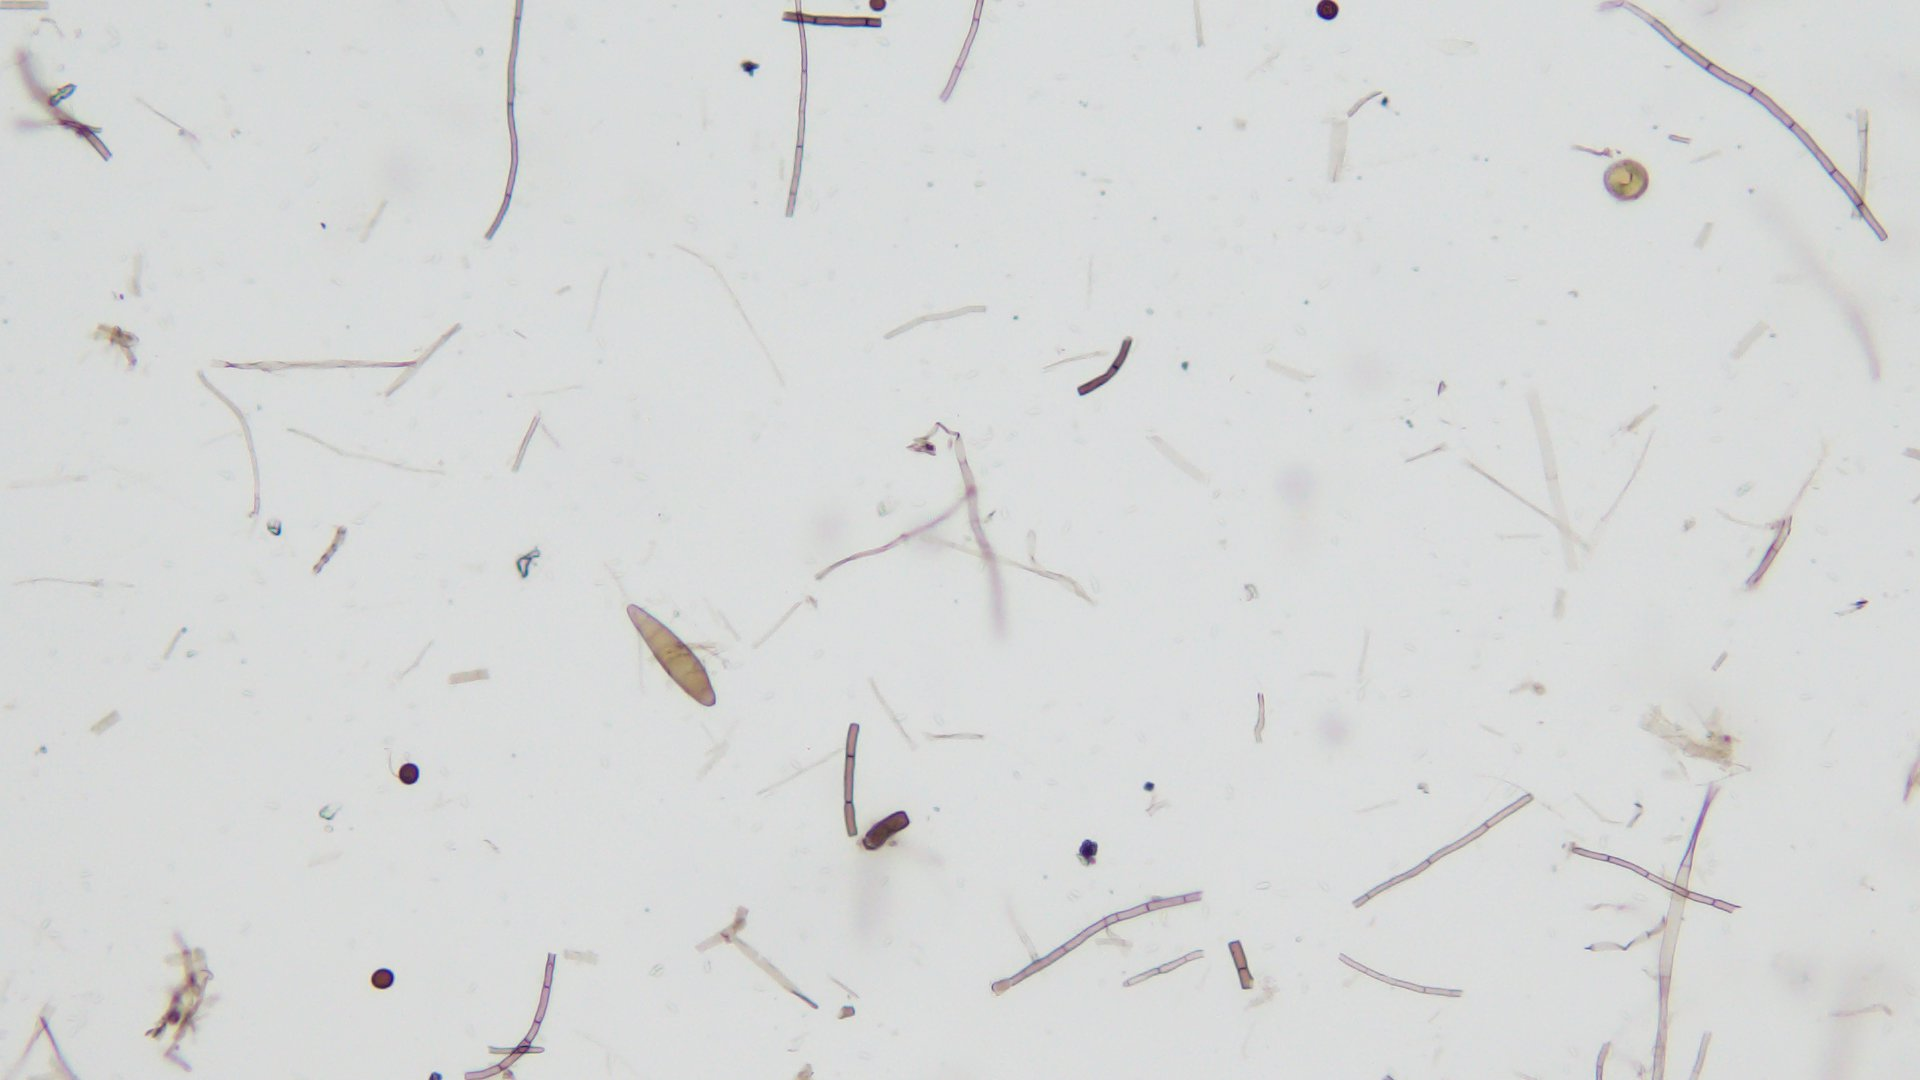dbb_spore: (620, 603, 721, 709)
shs_spore: (1312, 3, 1342, 22), (396, 764, 419, 787), (368, 969, 396, 988)
xb_spore: (1600, 160, 1654, 200)
